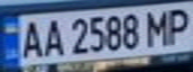2: (66, 15, 90, 56)
5: (87, 14, 109, 53)
8: (121, 10, 145, 51), (103, 11, 124, 52)
A: (18, 17, 45, 60), (39, 16, 66, 58)
M: (142, 7, 172, 47)
P: (160, 4, 193, 45)
